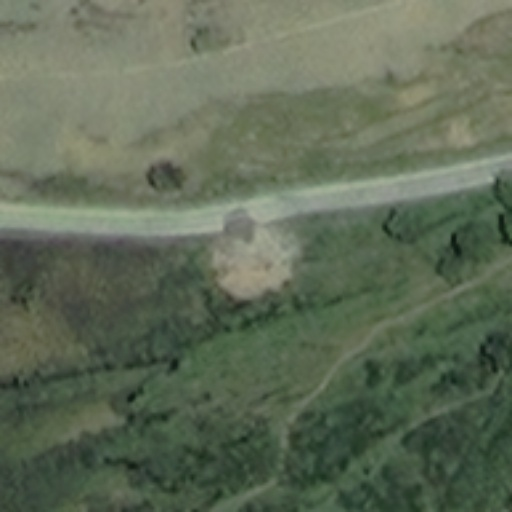landslide: (209, 233, 304, 303)
